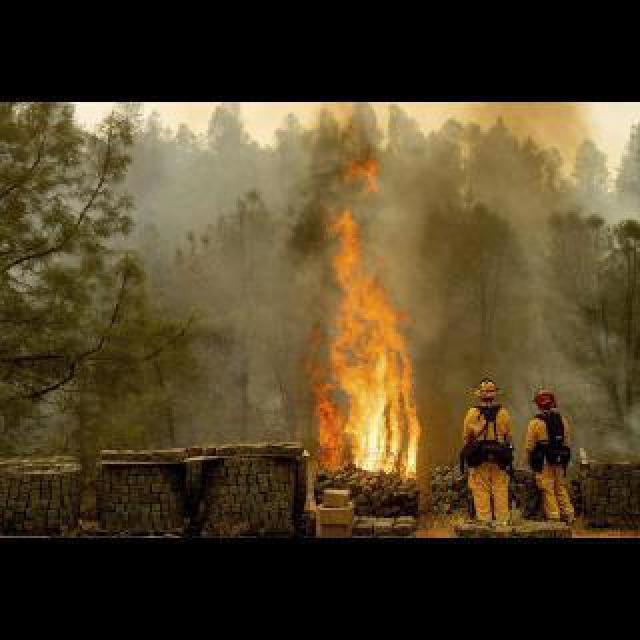fire: (330, 194, 394, 482)
smoke: (280, 136, 336, 267)
